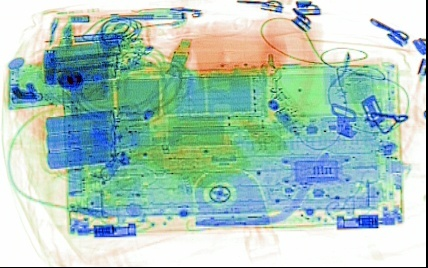powerbank: (40, 102, 146, 176), (38, 29, 151, 88)
